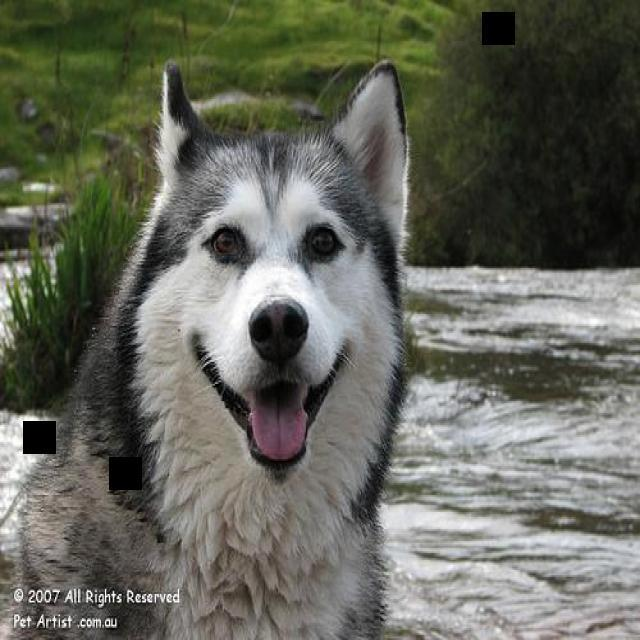adult_dog: (19, 54, 412, 640)
